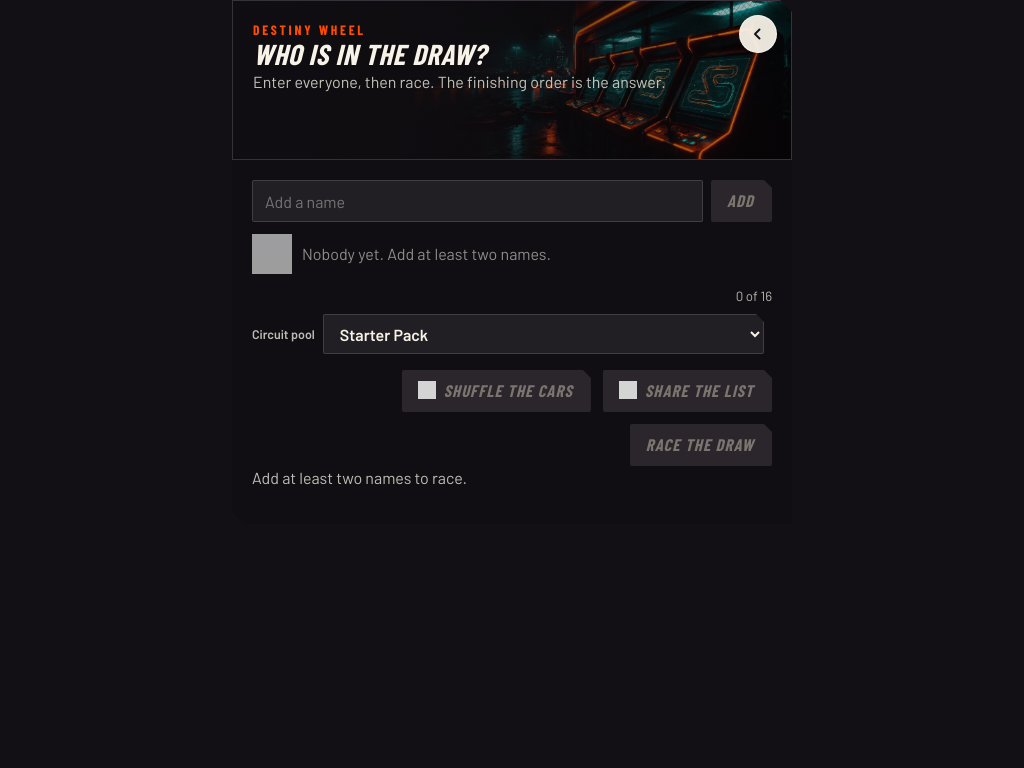
it: choosing a participant's car › opens on the car that entry is showing, and swaps it
In the field labelled "Add a name": (478, 201) 252,180 -> 703,222, type "Alex"
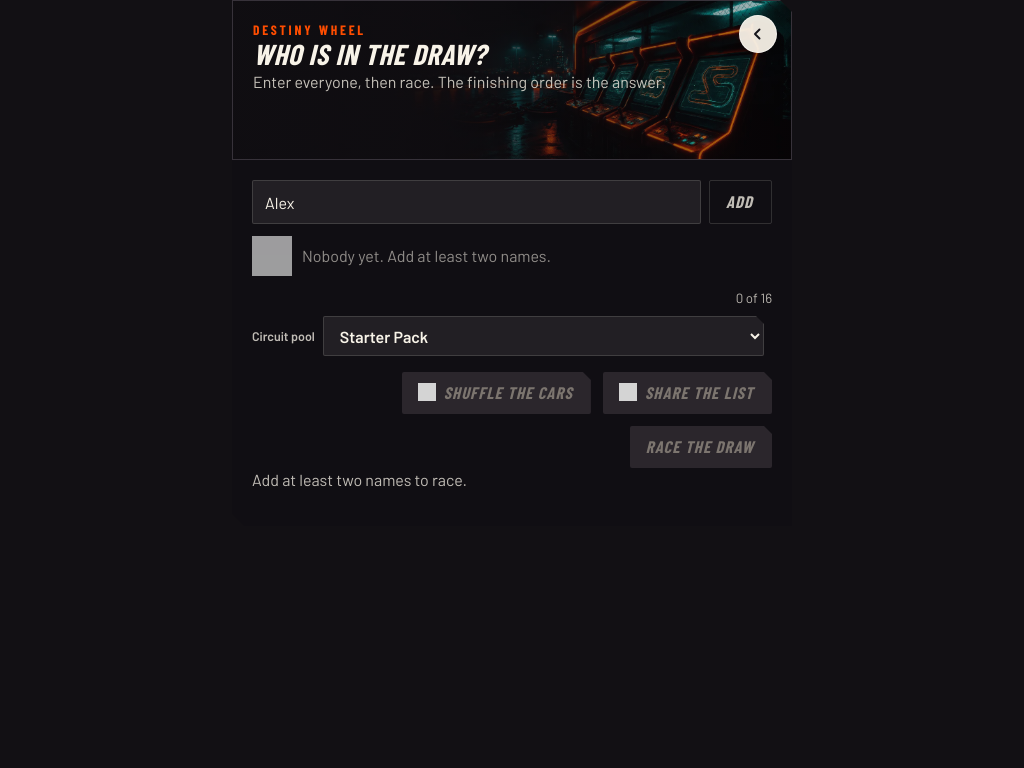
Click the button "Add": (740, 202) 709,180 -> 772,224
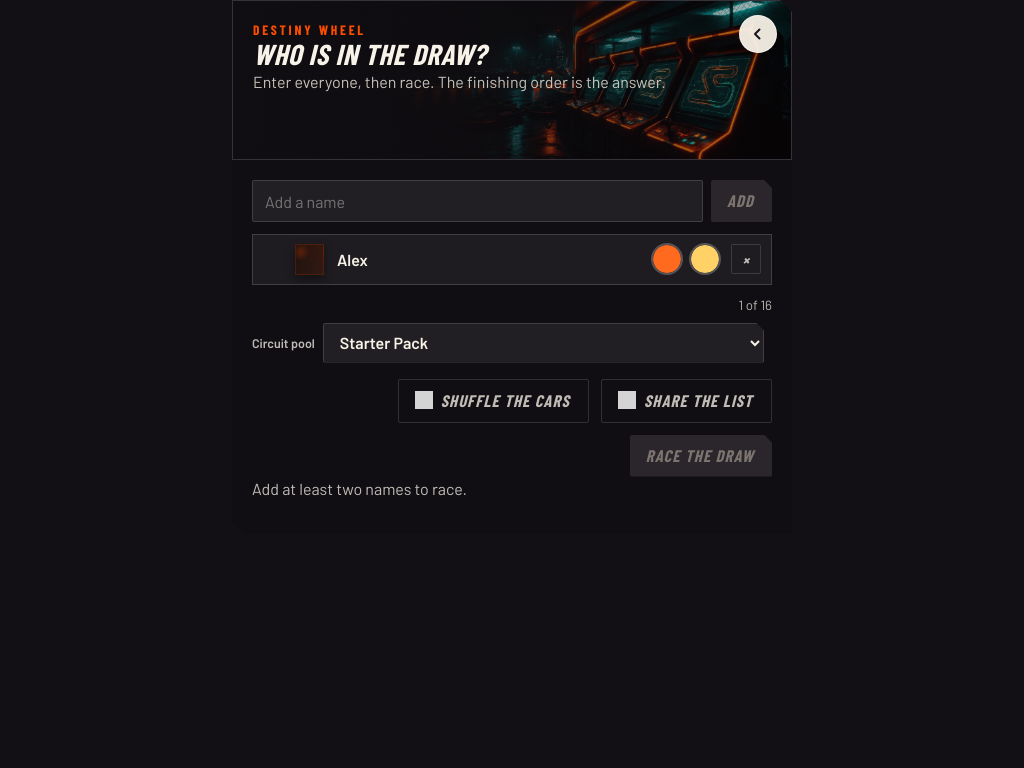
In the field labelled "Add a name": (478, 201) 252,180 -> 703,222, type "Sam"
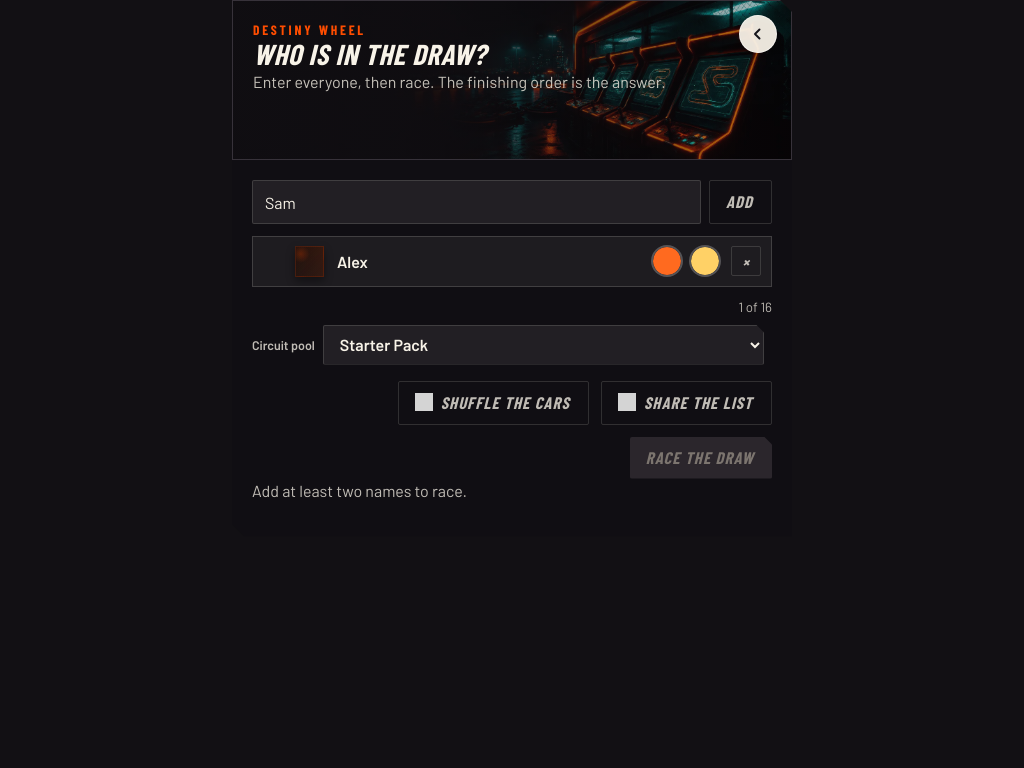
Click the button "Add": (740, 202) 709,180 -> 772,224
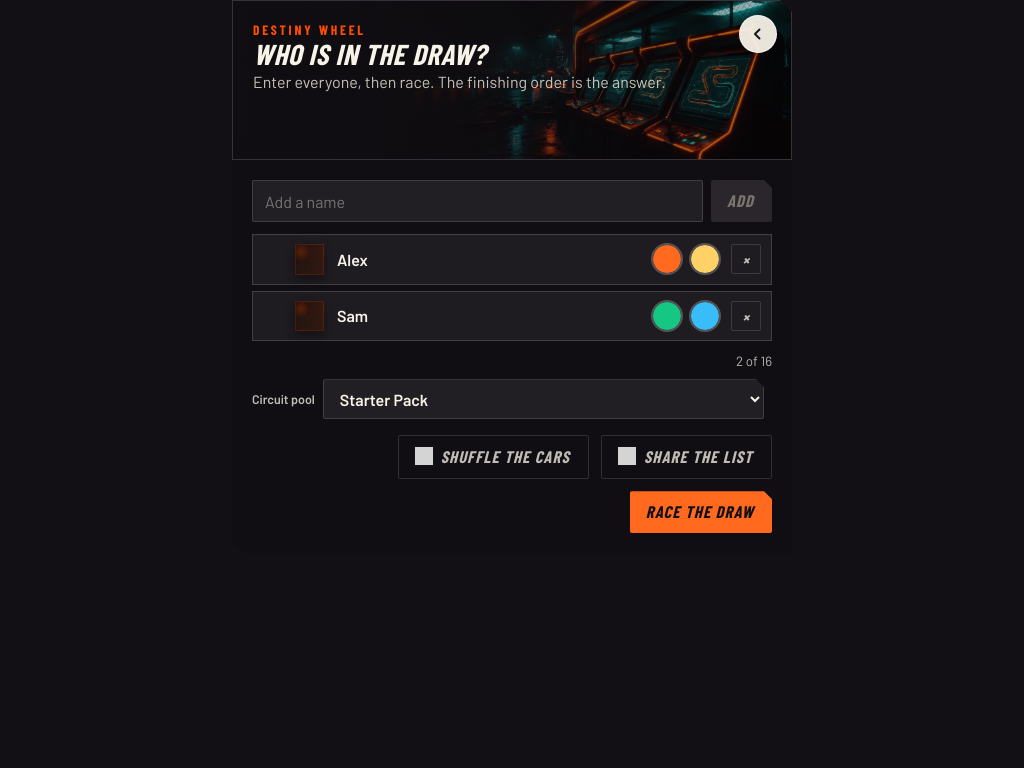
Click the button named "Choose Alex's car": (295, 259) 263,241 -> 327,278
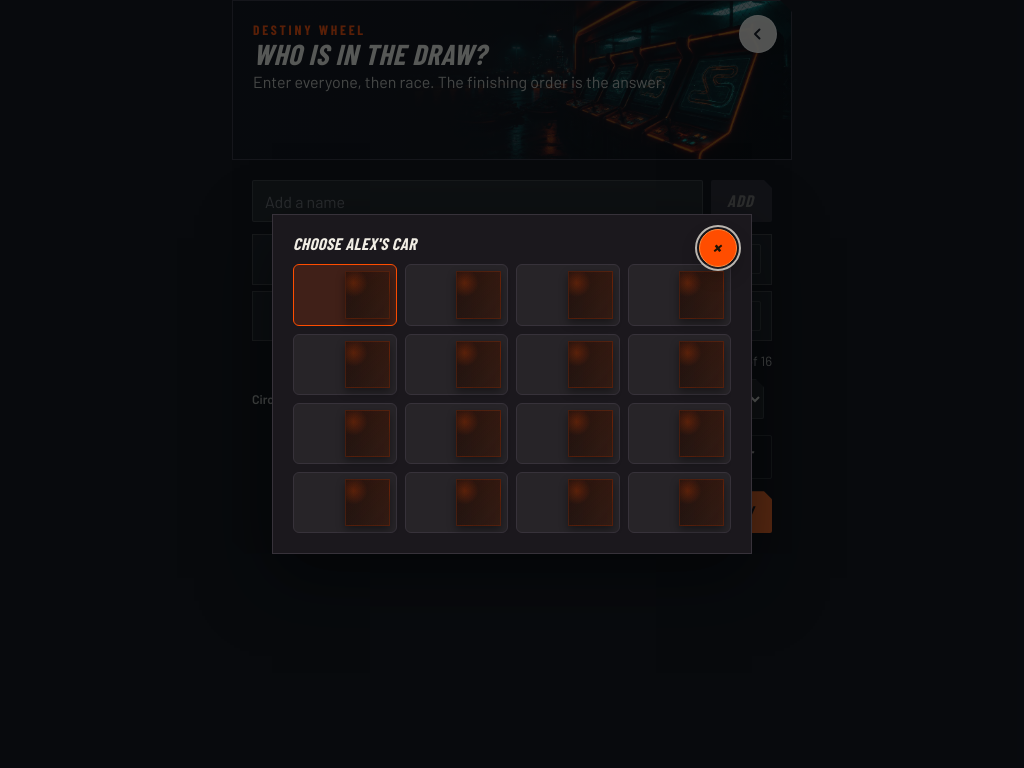
Check: the number of buttons with class "selected" is 1, box 293,264 -> 396,326
Click the button named "CRL 010": (456, 433) 404,403 -> 508,464
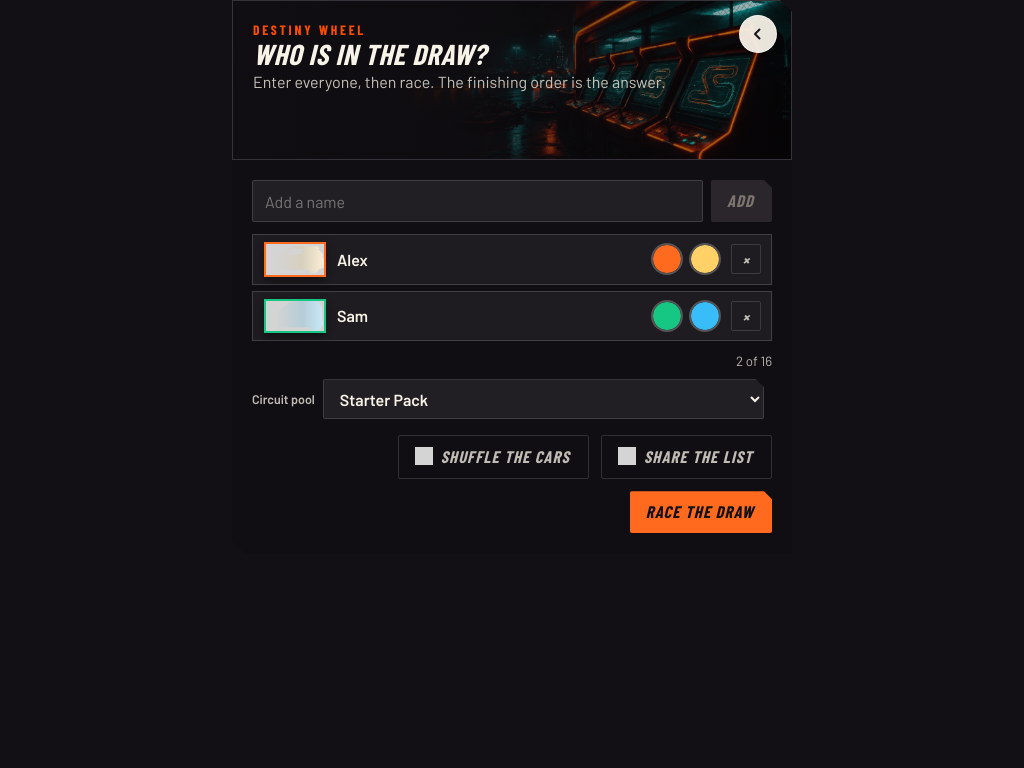
Check: the dialog is gone
